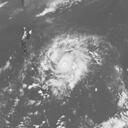cyclone: (37, 32, 102, 98)
